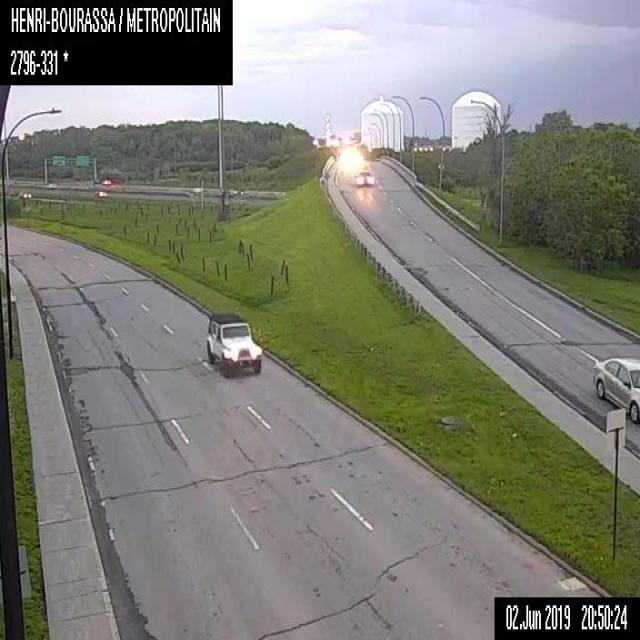vehicle: (204, 311, 262, 377), (593, 353, 639, 424), (354, 169, 372, 187), (16, 190, 32, 198), (95, 190, 106, 196)
